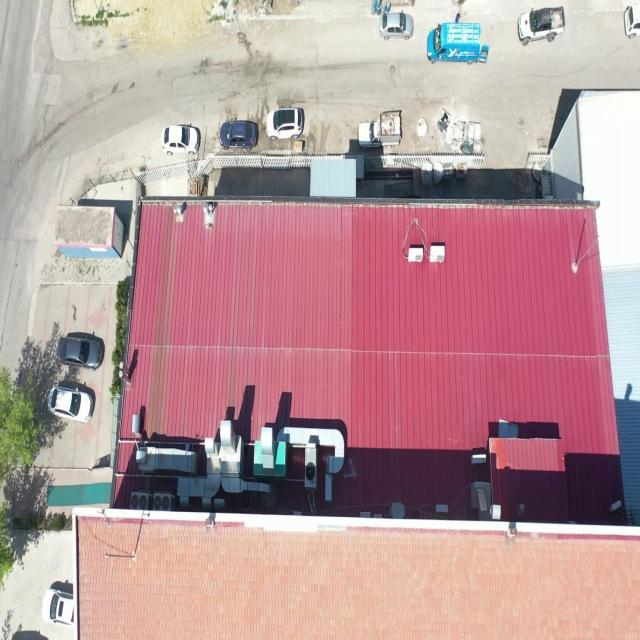p3rson: (455, 13, 460, 22)
